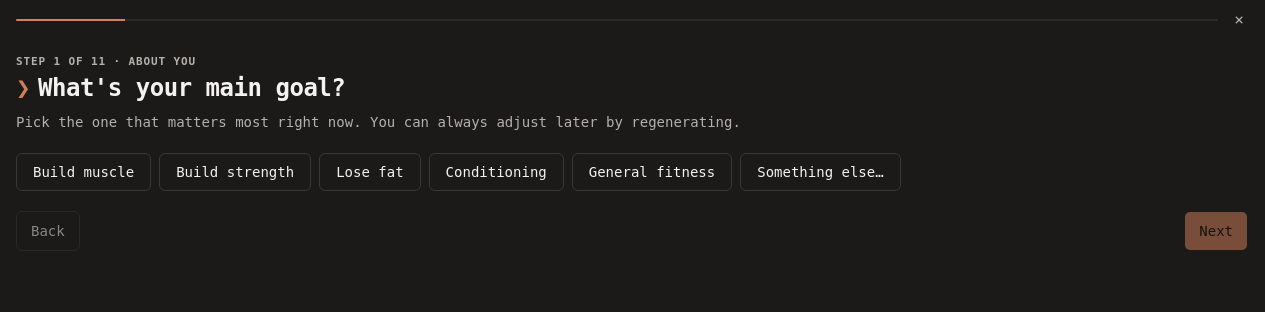
it: GoalStep › tapping 'Something else…' reveals a text input and does NOT advance or commit
Click the button labelled "Something else…".
click(820, 172)  # box [740,153,901,191]
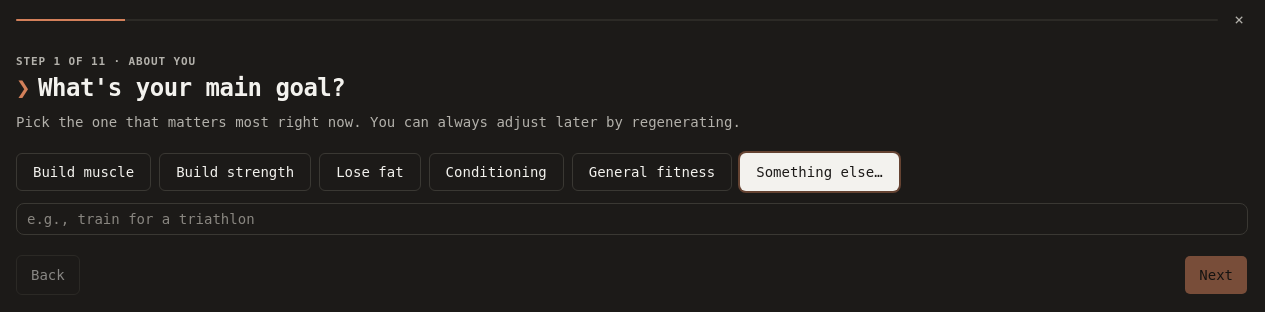
Result: the field with placeholder "e.g., train for a triathlon" is shown at [16,203,1248,235]
